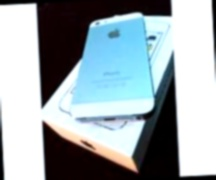iphone: (70, 14, 156, 122)
